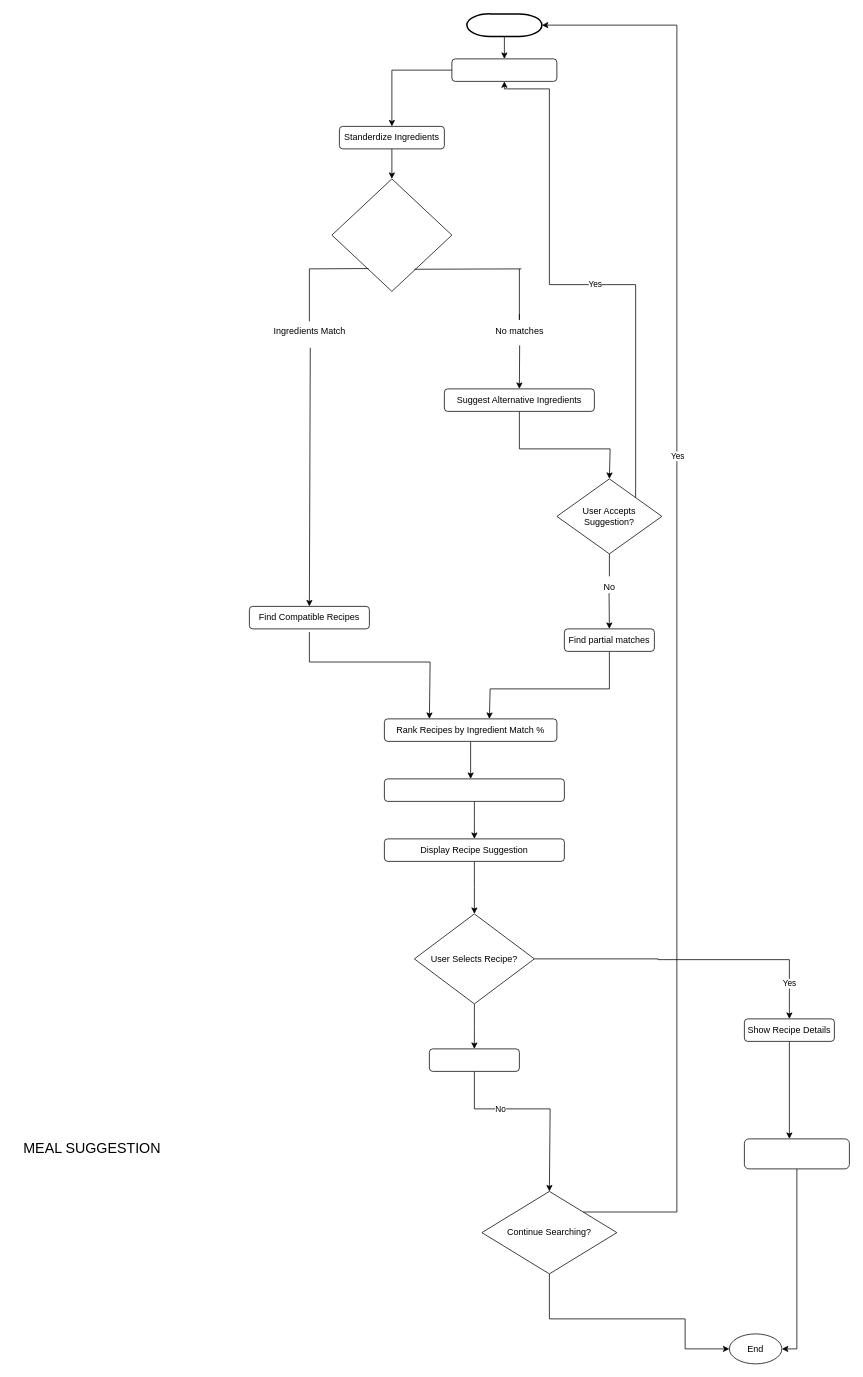
The diagram is 863 pixels wide and 1377 high, and some of its shapes have lost their labels. Here are the shapes that lost their labels. From the top down, the centre of each, then its label:
At pixel 504 25: "Start".
At pixel 504 69: "User input Ingredients".
At pixel 391 234: "Check Recipe Database".
At pixel 474 789: "Apply user preferences or filters".
At pixel 474 1059: "Offer more options".
At pixel 796 1153: "Save to favorite option".
